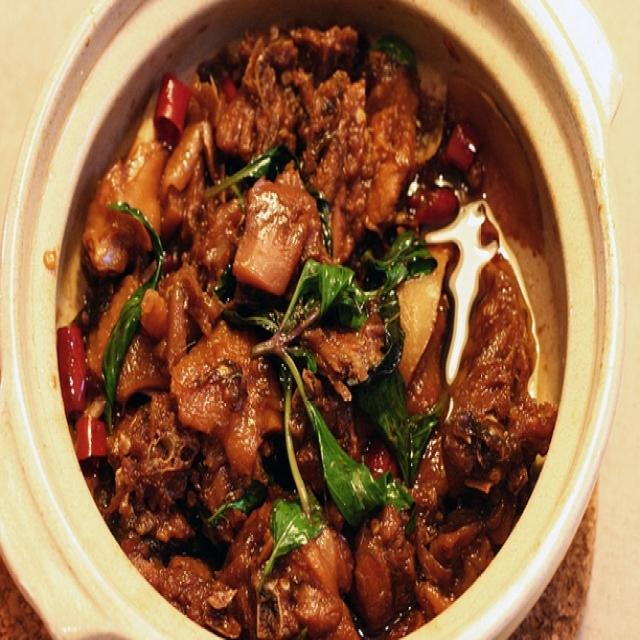鸡肉料理 含炸鸡: (27, 20, 594, 618)
